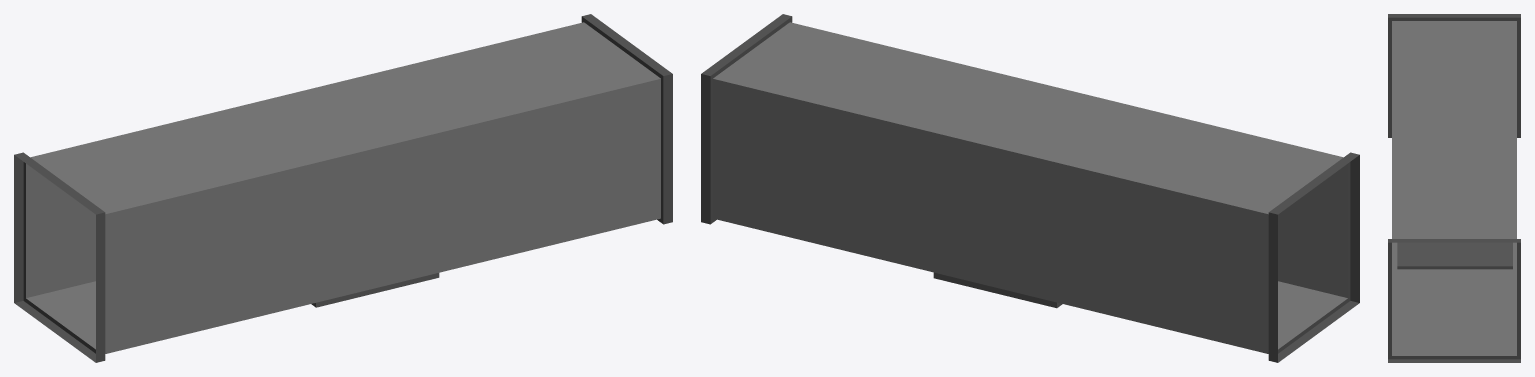
The model's file is WallDecor_07.fbx.
3 views of the same model, side by side, from view 1: azimuth 30°, elevation 25°; view 2: azimuth 150°, elevation 25°; view 3: azimuth 270°, elevation 25° (orthographic). The views are drawn at different scales.
Visible parts, largest first — view 1: WallDecor_07; view 2: WallDecor_07; view 3: WallDecor_07.
Part boxes in pixels (x1=…): WallDecor_07: x1=14, y1=14, x2=672, y2=362; WallDecor_07: x1=701, y1=14, x2=1359, y2=362; WallDecor_07: x1=1388, y1=14, x2=1520, y2=362.
Size of the model in its own units: 250 by 63.09 by 61.42.
